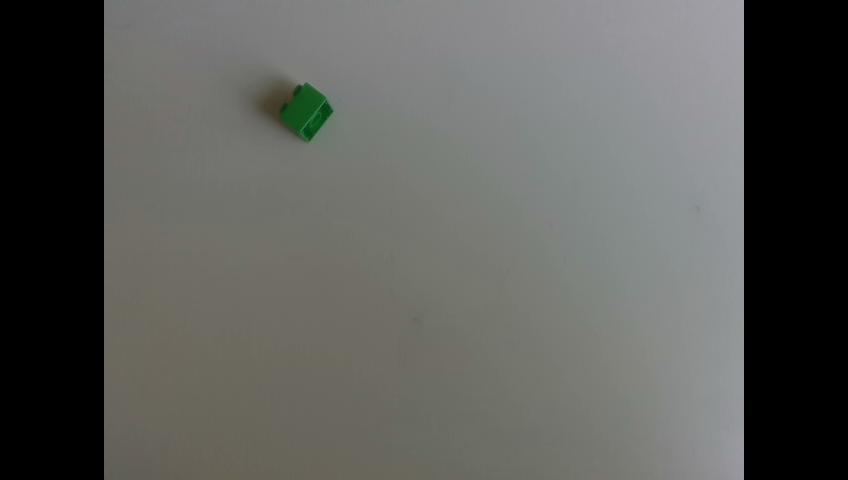2x2_green: (282, 81, 335, 140)
